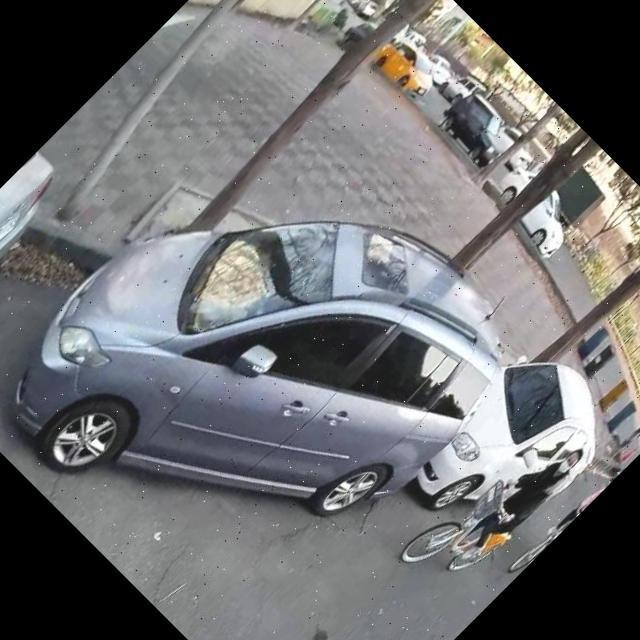person: (438, 420, 598, 582), (514, 462, 622, 568)
